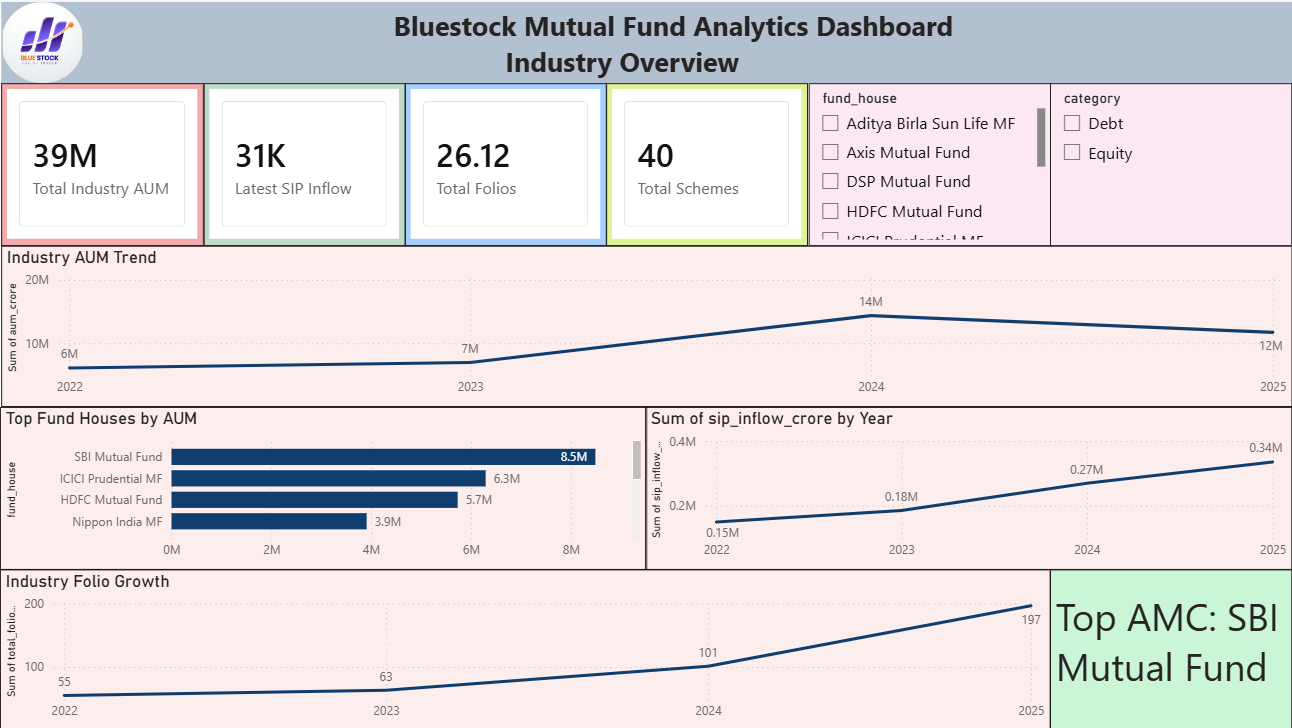

The page's visual inventory and layout, read from the dashboard file:
{"tool":"powerbi","page":{"name":"Industry Overview","canvas":[1280,720],"ordinal":0},"visuals":[{"type":"cardVisual","fields":{"Data":["03_aum_by_fund_house.Total Industry AUM"]},"box":[1.7,80.3,200,160.7],"z":0},{"type":"cardVisual","fields":{"Data":["04_monthly_sip_inflows.Latest SIP Inflow"]},"box":[200.8,80.3,199.2,160.7],"z":1000},{"type":"cardVisual","fields":{"Data":["06_industry_folio_count.Total Folios"]},"box":[400,80.3,199.2,160.7],"z":2000},{"type":"cardVisual","fields":{"Data":["01_fund_master.Total Schemes"]},"box":[599.2,80.3,199.2,160.7],"z":3000},{"type":"lineChart","title":"Industry AUM Trend","fields":{"Category":["03_aum_by_fund_house.date.Variation.Date Hierarchy.Year","03_aum_by_fund_house.date.Variation.Date Hierarchy.Quarter","03_aum_by_fund_house.date.Variation.Date Hierarchy.Month","03_aum_by_fund_house.date.Variation.Date Hierarchy.Day"],"Y":["Sum(03_aum_by_fund_house.aum_crore)"]},"box":[1.7,241,1275.3,159],"z":4000},{"type":"clusteredBarChart","title":"Top Fund Houses by AUM","fields":{"Category":["03_aum_by_fund_house.fund_house"],"Y":["Sum(03_aum_by_fund_house.aum_crore)"]},"box":[0,400,639.3,160.7],"z":5000},{"type":"lineChart","fields":{"Category":["04_monthly_sip_inflows.month.Variation.Date Hierarchy.Year","04_monthly_sip_inflows.month.Variation.Date Hierarchy.Quarter","04_monthly_sip_inflows.month.Variation.Date Hierarchy.Month","04_monthly_sip_inflows.month.Variation.Date Hierarchy.Day"],"Y":["Sum(04_monthly_sip_inflows.sip_inflow_crore)"]},"box":[637.7,400,639.3,160.7],"z":6000},{"type":"lineChart","title":"Industry Folio Growth","fields":{"Category":["06_industry_folio_count.month.Variation.Date Hierarchy.Year","06_industry_folio_count.month.Variation.Date Hierarchy.Quarter","06_industry_folio_count.month.Variation.Date Hierarchy.Month","06_industry_folio_count.month.Variation.Date Hierarchy.Day"],"Y":["Sum(06_industry_folio_count.total_folios_crore)"]},"box":[0,560.7,1037.7,159],"z":7000},{"type":"slicer","fields":{"Values":["01_fund_master.fund_house"]},"box":[798.3,80.3,239.3,160.7],"z":8000},{"type":"slicer","fields":{"Values":["01_fund_master.category"]},"box":[1037.7,80.3,239.3,160.7],"z":9000},{"type":"textbox","box":[1.7,0,1275.3,80.3],"z":10000},{"type":"textbox","box":[1037.7,560.7,239.3,159],"z":11000},{"type":"image","box":[1.4,0,81.4,80],"z":12000}]}

Visuals, with their boxes in screenshot pixels (x1, y1, x2, y2), scaled from the page's 1280x720 canvas onto the 1292x728 screenshot:
cardVisual - 03_aum_by_fund_house.Total Industry AUM: bbox(2, 81, 204, 244)
cardVisual - 04_monthly_sip_inflows.Latest SIP Inflow: bbox(203, 81, 404, 244)
cardVisual - 06_industry_folio_count.Total Folios: bbox(404, 81, 605, 244)
cardVisual - 01_fund_master.Total Schemes: bbox(605, 81, 806, 244)
"Industry AUM Trend" lineChart: bbox(2, 244, 1289, 404)
"Top Fund Houses by AUM" clusteredBarChart: bbox(0, 404, 645, 567)
lineChart - 04_monthly_sip_inflows.month.Variation.Date Hierarchy.Year x 04_monthly_sip_inflows.month.Variation.Date Hierarchy.Quarter: bbox(644, 404, 1289, 567)
"Industry Folio Growth" lineChart: bbox(0, 567, 1047, 727)
slicer - 01_fund_master.fund_house: bbox(806, 81, 1047, 244)
slicer - 01_fund_master.category: bbox(1047, 81, 1289, 244)
textbox: bbox(2, 0, 1289, 81)
textbox: bbox(1047, 567, 1289, 727)
image: bbox(1, 0, 84, 81)
